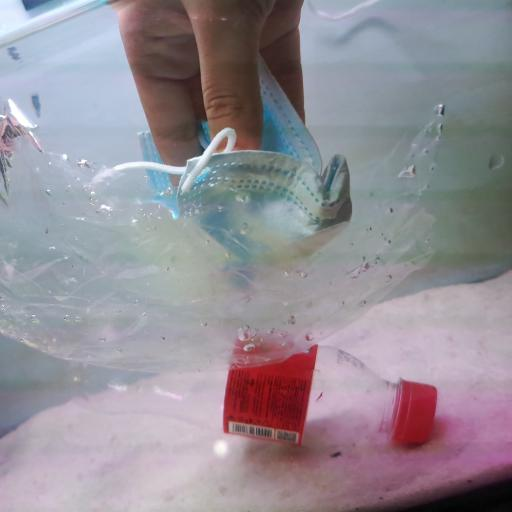bottle_cap: (389, 376, 439, 450)
mask: (124, 105, 350, 262)
plastic_bag: (0, 104, 512, 375)
plastic_bottle: (72, 317, 436, 452)
